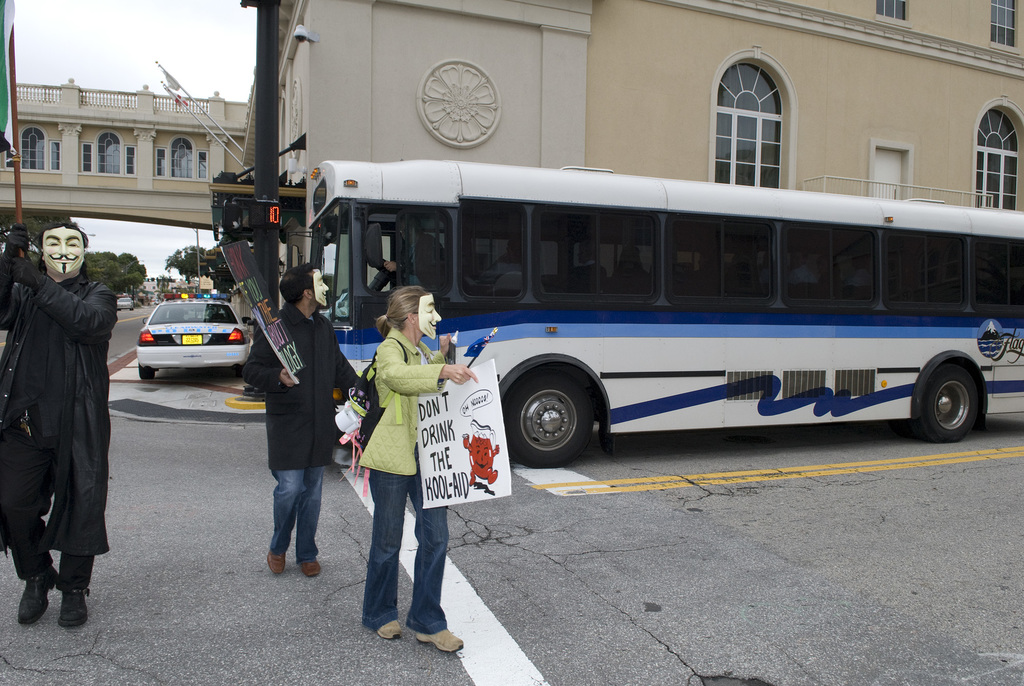Bus: (307, 160, 1023, 466)
